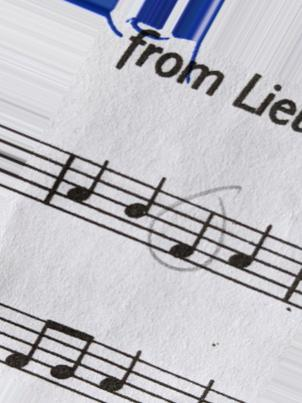A: (66, 153, 111, 236), (227, 218, 272, 298), (100, 344, 146, 401)
B: (121, 173, 170, 258)
F: (166, 195, 216, 276)
